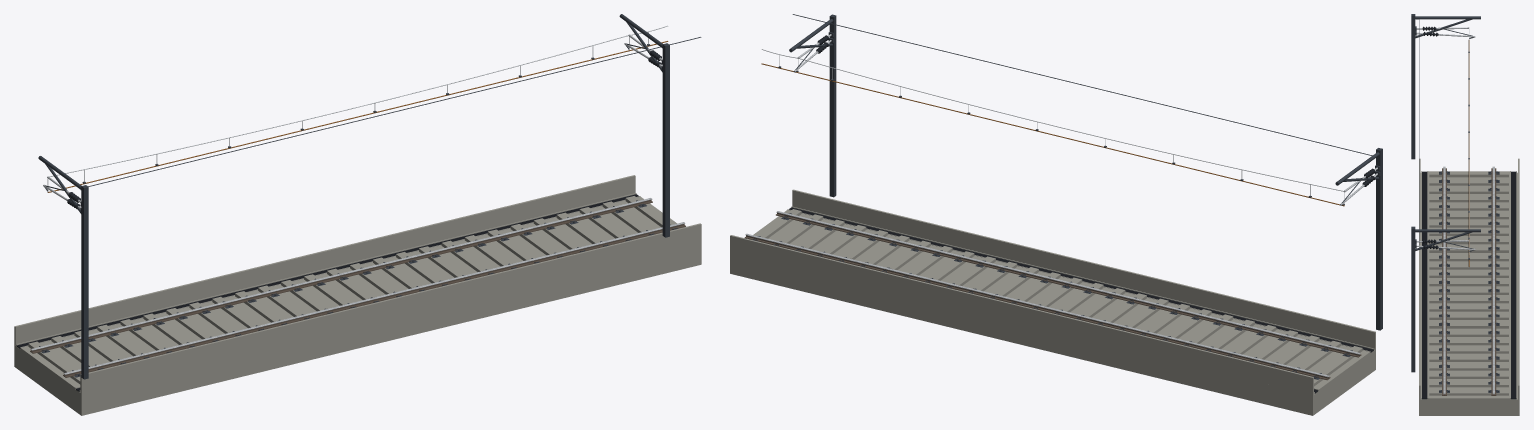
File: TrackGantry.glb
3 renders of one model, left to right at view 1: azimuth 30°, elevation 25°; view 2: azimuth 150°, elevation 25°; view 3: azimuth 270°, elevation 25°, orthographic. The views are drawn at different scales.
Parts seen in each view (by area): view 1: track-trench-wall (×2), track-bed, concrete sleepers, track-gantry-waysideconcrete-001, station-gantry-post (×2), track-gantry-steel-007, track-gantry-black-011, track-gantry-steel-004, track-gantry-trackrailweb-005, track-gantry-trackrailweb-002, track-gantry-waysideconcrete-013, track-gantry-trackrailweb-006 (+5 smaller); view 2: track-trench-wall (×2), track-bed, concrete sleepers, track-gantry-waysideconcrete-001, station-gantry-post (×2), track-gantry-steel-007, track-gantry-steel-004, track-gantry-black-008, track-gantry-trackrailweb-002, track-gantry-trackrailweb-005, track-gantry-waysideconcrete-009, track-gantry-trackrailweb-003 (+6 smaller); view 3: concrete sleepers, track-gantry-waysideconcrete-001, track-bed, station-gantry-post (×2), track-gantry-black-011, track-gantry-black-008, rail seats, track-trench-wall (×2), track-gantry-trackrailweb-002, track-gantry-trackrailweb-005, track-gantry-steel-007, track-gantry-steel-004 (+11 smaller).
Boxes of the visible parts, x1=… form: track-trench-wall (×2): x1=14, y1=175, x2=701, y2=393; track-bed: x1=14, y1=243, x2=701, y2=415; concrete sleepers: x1=28, y1=196, x2=673, y2=384; track-gantry-waysideconcrete-001: x1=20, y1=196, x2=676, y2=389; station-gantry-post (×2): x1=81, y1=43, x2=669, y2=379; track-gantry-steel-007: x1=30, y1=198, x2=652, y2=350; track-gantry-black-011: x1=16, y1=194, x2=638, y2=348; track-gantry-steel-004: x1=63, y1=222, x2=685, y2=374; track-gantry-trackrailweb-005: x1=30, y1=201, x2=652, y2=353; track-gantry-trackrailweb-002: x1=63, y1=225, x2=685, y2=377; track-gantry-waysideconcrete-013: x1=16, y1=193, x2=636, y2=345; track-gantry-trackrailweb-006: x1=31, y1=199, x2=651, y2=351; track-trench-wall (×2): x1=730, y1=189, x2=1375, y2=395; track-bed: x1=730, y1=253, x2=1375, y2=415; concrete sleepers: x1=757, y1=209, x2=1362, y2=386; track-gantry-waysideconcrete-001: x1=753, y1=210, x2=1370, y2=390; station-gantry-post (×2): x1=829, y1=14, x2=1382, y2=330; track-gantry-steel-007: x1=745, y1=233, x2=1329, y2=377; track-gantry-steel-004: x1=776, y1=211, x2=1360, y2=354; track-gantry-black-008: x1=789, y1=207, x2=1373, y2=352; track-gantry-trackrailweb-002: x1=776, y1=214, x2=1361, y2=357; track-gantry-trackrailweb-005: x1=744, y1=236, x2=1330, y2=380; track-gantry-waysideconcrete-009: x1=791, y1=206, x2=1374, y2=349; track-gantry-trackrailweb-003: x1=777, y1=212, x2=1360, y2=355; concrete sleepers: x1=1429, y1=171, x2=1508, y2=395; track-gantry-waysideconcrete-001: x1=1427, y1=171, x2=1510, y2=399; track-bed: x1=1419, y1=172, x2=1519, y2=415; station-gantry-post (×2): x1=1411, y1=14, x2=1415, y2=372; track-gantry-black-011: x1=1511, y1=171, x2=1516, y2=399; track-gantry-black-008: x1=1422, y1=171, x2=1427, y2=399; rail seats: x1=1439, y1=171, x2=1499, y2=392; track-trench-wall (×2): x1=1419, y1=158, x2=1519, y2=399; track-gantry-trackrailweb-002: x1=1442, y1=168, x2=1446, y2=395; track-gantry-trackrailweb-005: x1=1491, y1=168, x2=1496, y2=395; track-gantry-steel-007: x1=1492, y1=166, x2=1494, y2=394; track-gantry-steel-004: x1=1443, y1=166, x2=1445, y2=394.
Size of the model in its own units: 16.06 by 5.72 by 3.22.
Materials: 7 (1 with a texture image).
